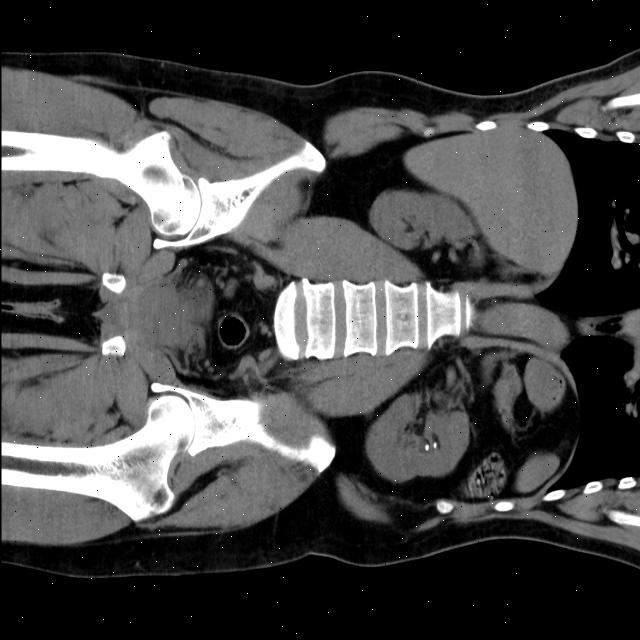kidneystone: (432, 438, 439, 450), (424, 444, 428, 450)
